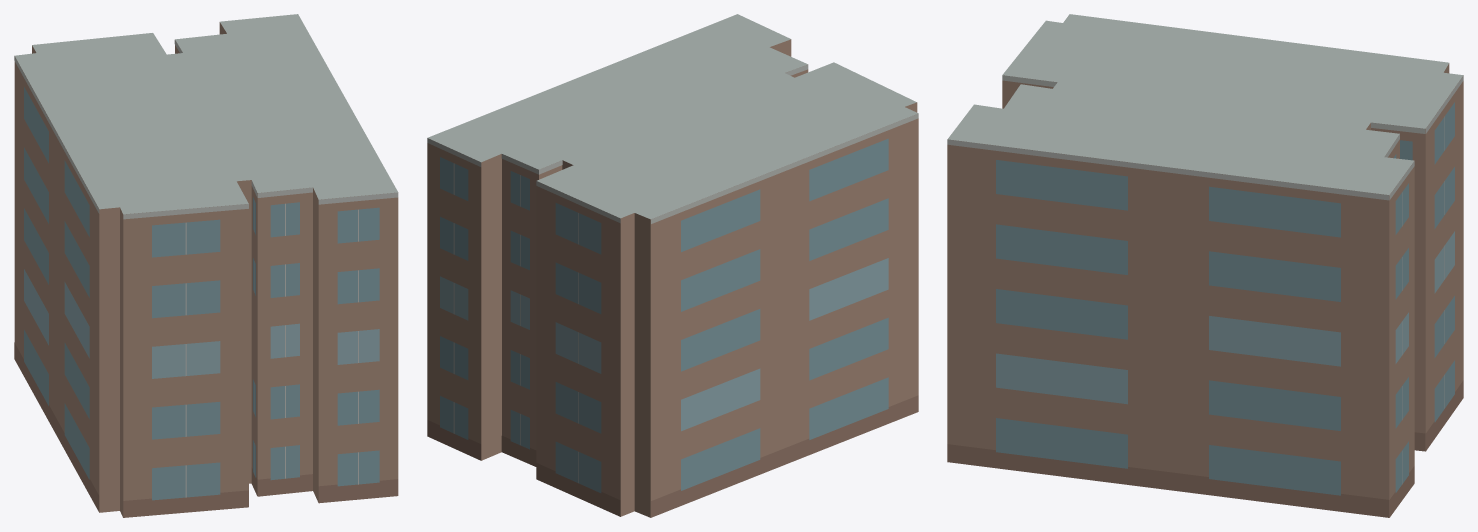
Rendered from survey-upis-32601016.glb.
3 renders of one model, left to right at view 1: azimuth 30°, elevation 25°; view 2: azimuth 150°, elevation 25°; view 3: azimuth 270°, elevation 25°, orthographic. The views are drawn at different scales.
Parts seen in each view (by area): view 1: survey-upis-32601016.tmp; view 2: survey-upis-32601016.tmp; view 3: survey-upis-32601016.tmp.
Boxes of the visible parts, bbox=[...] form: survey-upis-32601016.tmp: bbox=[14, 14, 398, 517]; survey-upis-32601016.tmp: bbox=[427, 14, 918, 517]; survey-upis-32601016.tmp: bbox=[947, 14, 1463, 517].
Size of the model in its own units: 17.77 by 14.75 by 21.39.
